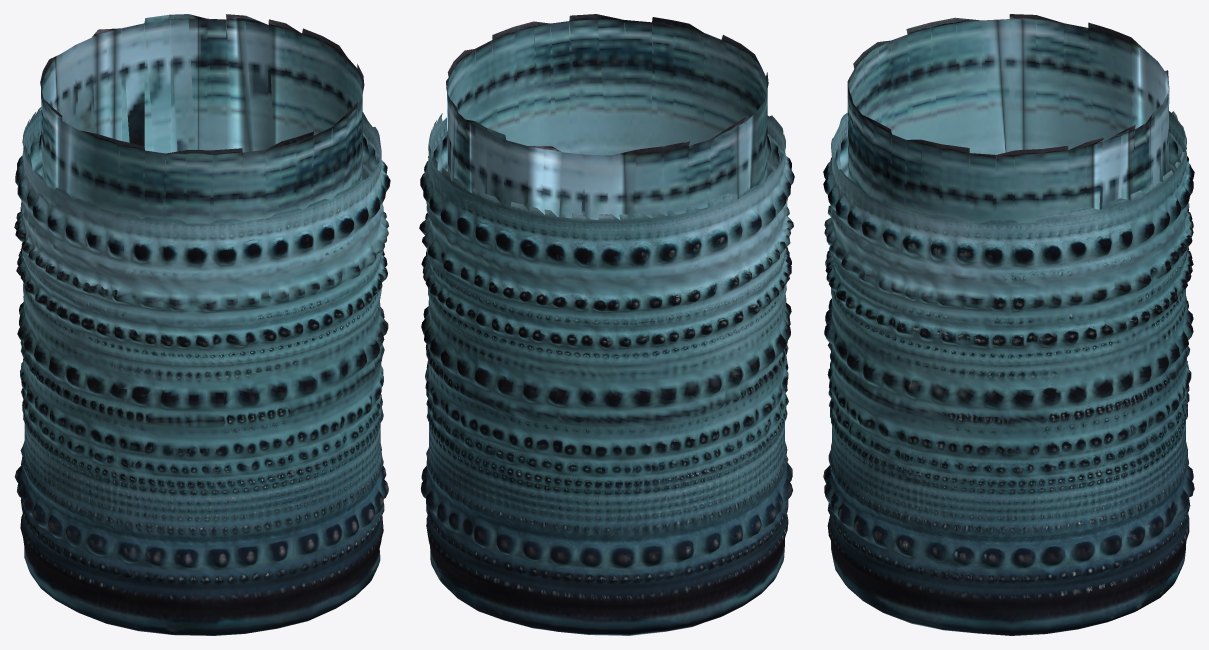
The model's file is Glass_Jupiter_Blue_8InchesTall_TableTop_0222192413_texture.glb.
3 renders of one model, left to right at view 1: azimuth 30°, elevation 25°; view 2: azimuth 150°, elevation 25°; view 3: azimuth 270°, elevation 25°, orthographic.
Visible parts, largest first — view 1: Mesh_0.001; view 2: Mesh_0.001; view 3: Mesh_0.001.
Part boxes in pixels (<box>): Mesh_0.001: <box>14,14,390,635</box>; Mesh_0.001: <box>419,14,794,635</box>; Mesh_0.001: <box>823,14,1194,635</box>.
Size of the model in its own units: 0.1406 by 0.2032 by 0.1406.
1 material, 1 textured.
